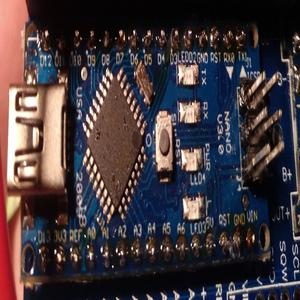duino: (18, 5, 299, 291)
